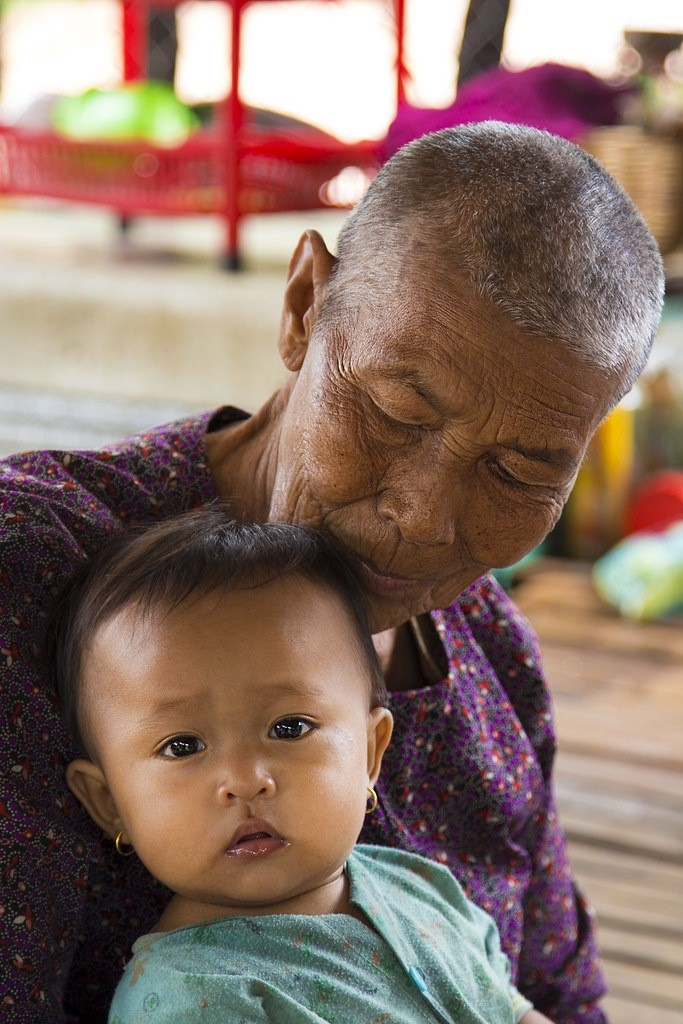face_no_mask: (261, 127, 666, 639), (66, 517, 394, 903)
